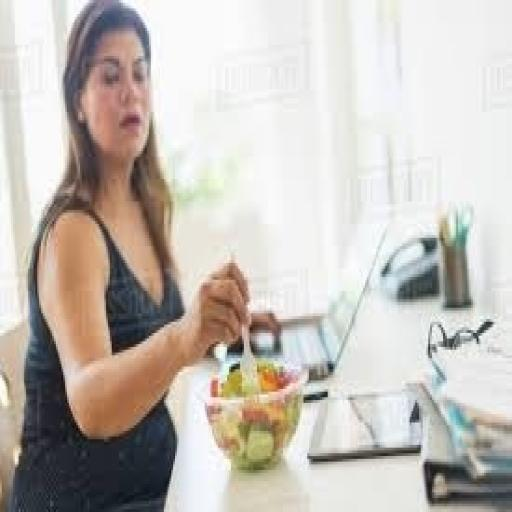eating: (4, 0, 276, 509)
